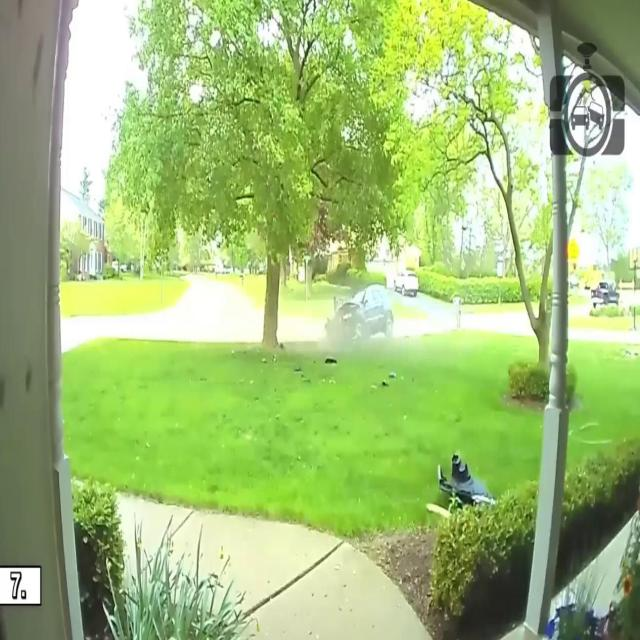accident: (321, 280, 399, 350)
